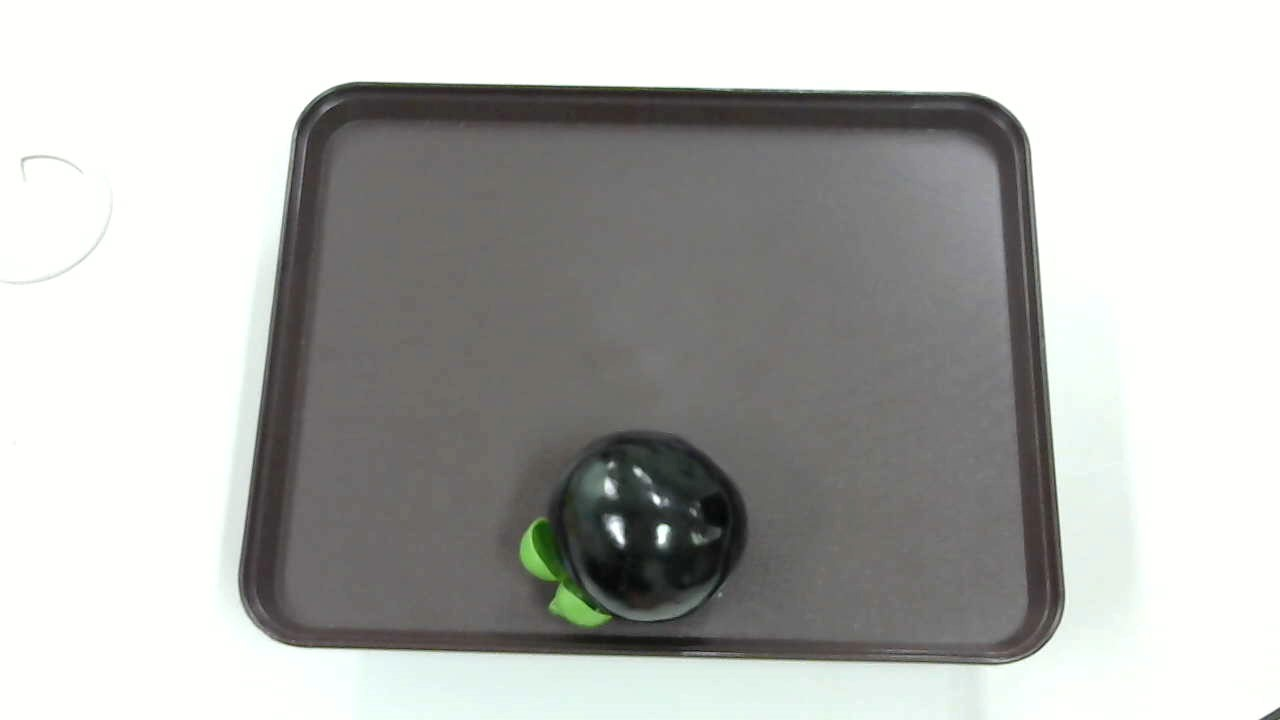mangosteen: (517, 430, 754, 639)
